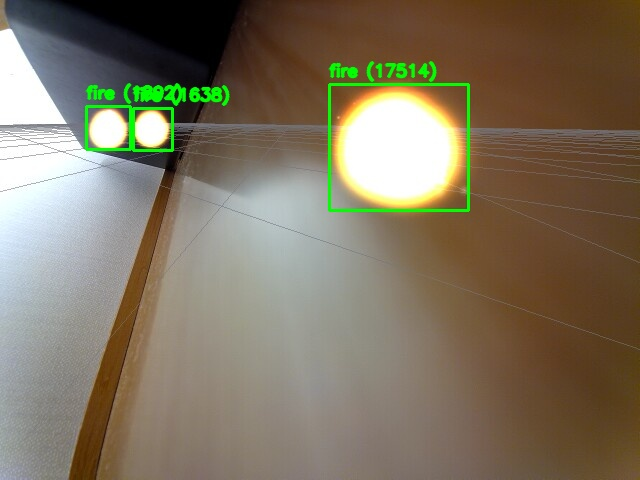fire: (329, 84, 468, 210), (86, 106, 130, 149), (133, 108, 172, 150)
